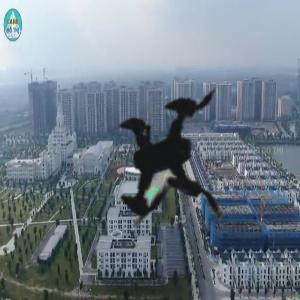drone: (14, 11, 299, 296)
